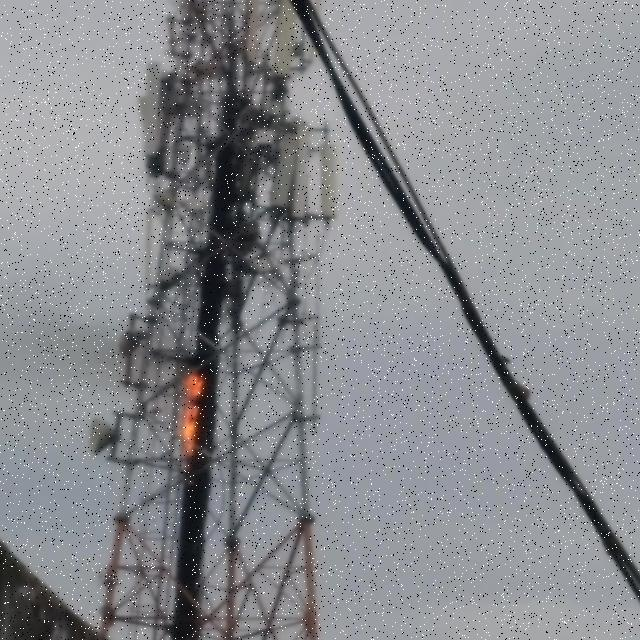fire: (167, 370, 222, 465)
